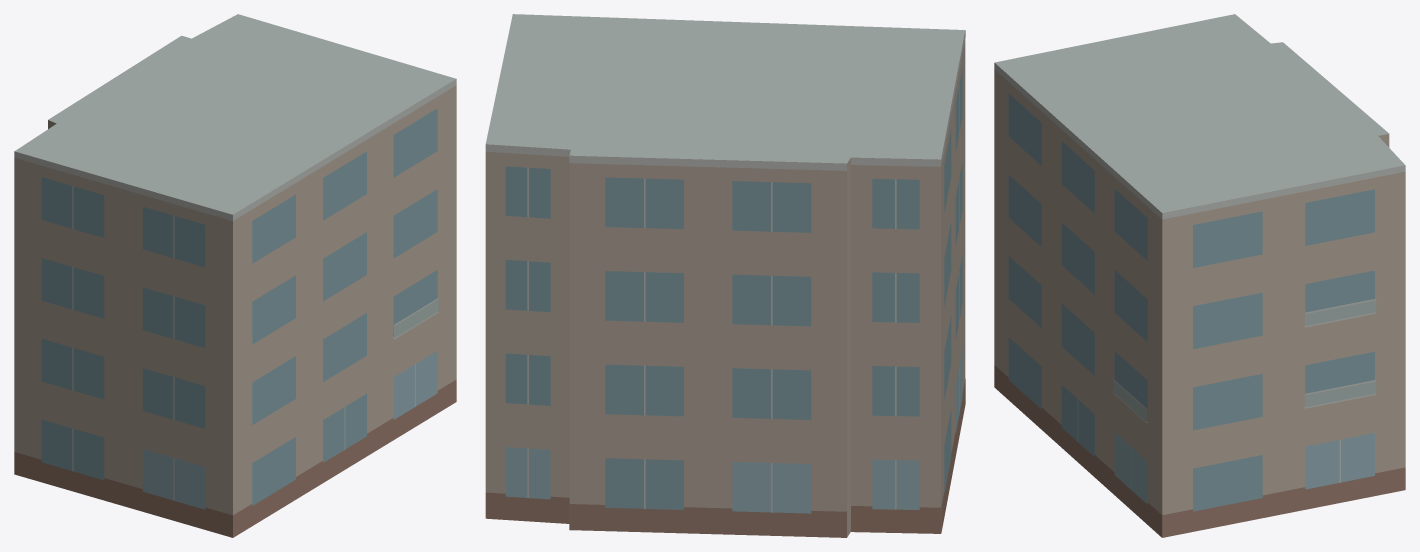
Rendered from survey-upis-32745201.glb.
The picture shows the model from 3 angles, left to right: view 1: azimuth 30°, elevation 25°; view 2: azimuth 150°, elevation 25°; view 3: azimuth 270°, elevation 25°; orthographic projection. The views are drawn at different scales.
Visible parts, largest first — view 1: survey-upis-32745201.tmp; view 2: survey-upis-32745201.tmp; view 3: survey-upis-32745201.tmp.
Boxes of the visible parts, bbox=[...] form: survey-upis-32745201.tmp: bbox=[14, 14, 456, 537]; survey-upis-32745201.tmp: bbox=[485, 14, 965, 537]; survey-upis-32745201.tmp: bbox=[994, 14, 1405, 537].
Bounding box in the file's own units: 16.31 × 12.4 × 14.24.
